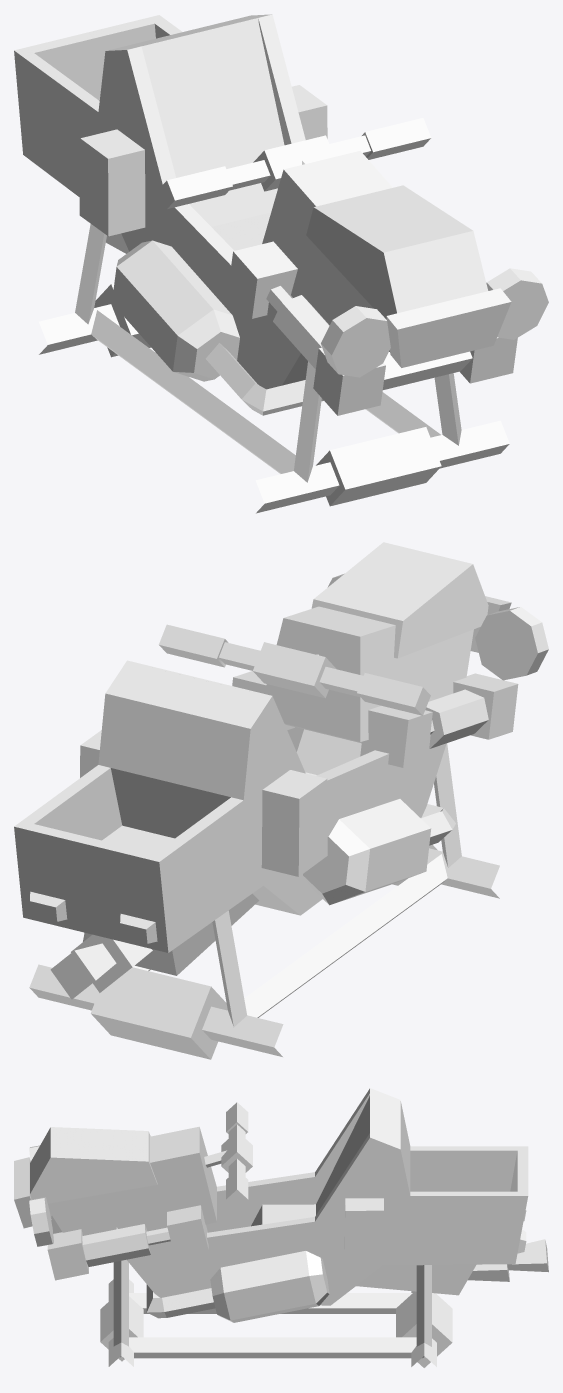
File: Truck 3 Body.glb
3 views of the same model, one above another, from view 1: azimuth 30°, elevation 25°; view 2: azimuth 150°, elevation 25°; view 3: azimuth 270°, elevation 25° (orthographic). The views are drawn at different scales.
Visible parts, largest first — view 1: interior, body; view 2: body, interior; view 3: body, interior.
Part boxes in pixels (box(x1,y1,x2,y2)): interior: box(39, 18, 548, 513); body: box(14, 14, 488, 389); body: box(14, 542, 488, 952); interior: box(29, 573, 548, 1059); body: box(30, 1088, 528, 1322); interior: box(14, 1095, 548, 1367).
Size of the model in its own units: 1.88 by 2.39 by 4.87.
Materials: 1 (1 with a texture image).
